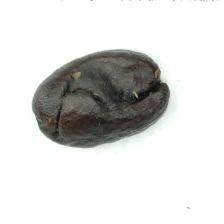NG: (43, 62, 166, 143)
